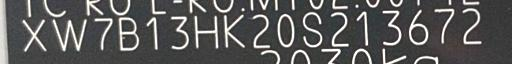letter: (50, 17, 90, 53), (192, 13, 220, 49), (20, 17, 48, 51), (432, 7, 456, 46), (90, 15, 114, 53), (221, 13, 247, 48), (460, 6, 482, 46), (328, 10, 352, 46), (300, 11, 324, 47), (249, 12, 273, 48), (116, 16, 140, 52), (408, 7, 430, 46), (380, 8, 402, 46), (168, 14, 190, 50), (274, 13, 296, 48), (354, 9, 372, 45), (144, 15, 160, 49)
